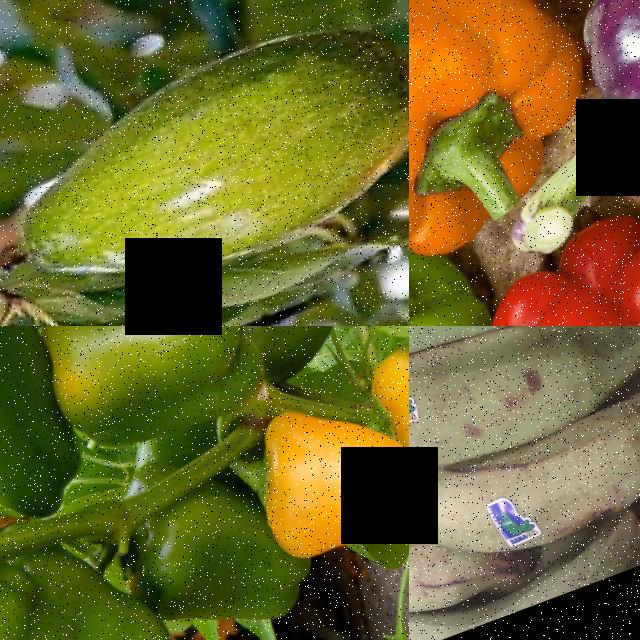avocado: (0, 0, 409, 326)
banana: (409, 339, 640, 614), (409, 326, 640, 529), (409, 326, 640, 426)
bell pepper: (409, 0, 596, 275), (212, 381, 409, 596), (11, 326, 295, 449), (88, 483, 289, 640), (440, 218, 640, 326), (574, 0, 640, 271), (0, 326, 94, 515), (0, 558, 189, 640), (369, 326, 409, 480), (226, 326, 367, 365)
